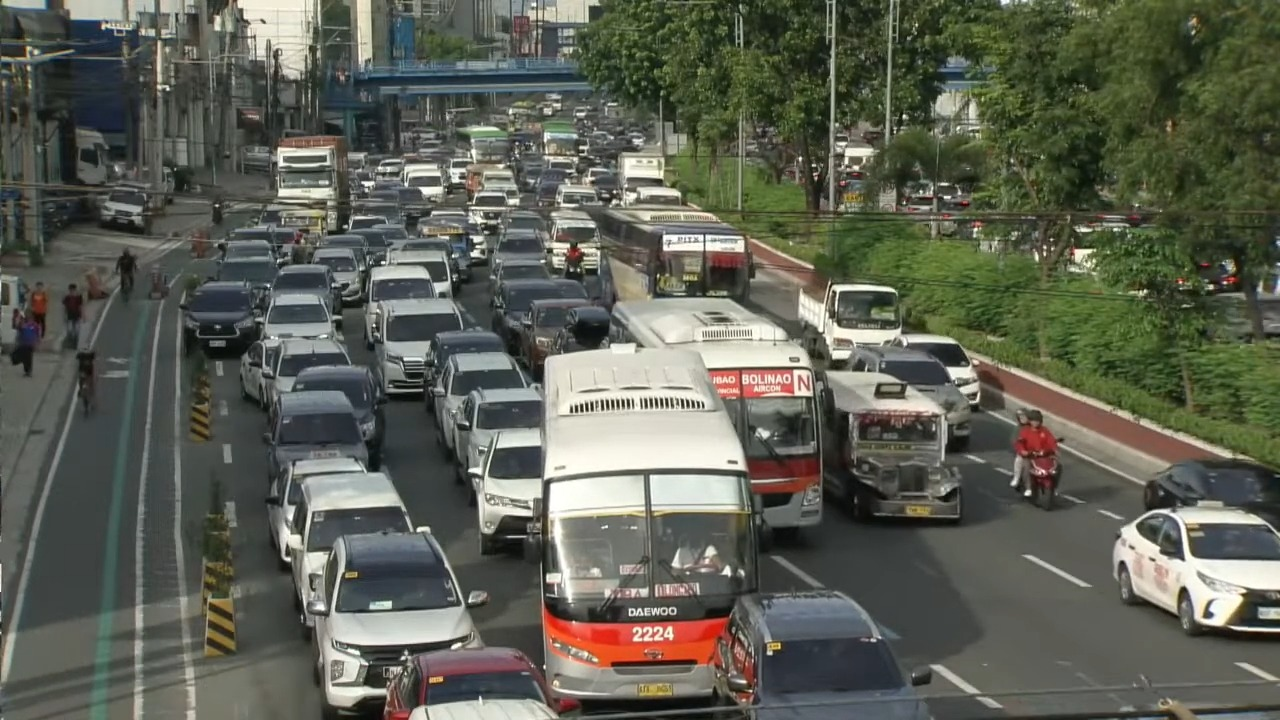bus: (524, 344, 770, 700), (610, 298, 822, 533), (596, 208, 753, 300), (456, 125, 510, 164), (542, 121, 578, 163)
car: (306, 532, 488, 714), (712, 589, 931, 719), (1112, 501, 1279, 635), (286, 472, 410, 627), (382, 647, 580, 719), (848, 346, 972, 451), (266, 457, 365, 568), (431, 352, 533, 457), (293, 365, 386, 469), (1143, 458, 1279, 527), (263, 391, 367, 481), (467, 428, 541, 554), (372, 300, 464, 394), (452, 387, 542, 482), (241, 339, 350, 410), (890, 333, 980, 409), (363, 265, 436, 349), (519, 299, 590, 378), (180, 281, 258, 352), (491, 280, 564, 354), (270, 264, 341, 327), (427, 328, 504, 386), (393, 237, 469, 295), (543, 306, 610, 364), (420, 222, 474, 282), (387, 248, 454, 296), (262, 294, 335, 338), (239, 339, 282, 411), (311, 246, 362, 306), (407, 699, 559, 719), (225, 224, 300, 261), (214, 257, 278, 296), (99, 187, 152, 234), (321, 233, 369, 279), (490, 258, 550, 291), (347, 224, 391, 267), (493, 228, 546, 262), (469, 190, 507, 231), (219, 239, 276, 261), (503, 210, 547, 238), (397, 187, 430, 222), (554, 184, 600, 208), (534, 171, 564, 206), (593, 173, 619, 204), (552, 277, 588, 298), (347, 214, 390, 231), (372, 223, 409, 242), (431, 207, 467, 221)
motorcycle: (1020, 452, 1061, 510), (563, 259, 584, 282), (211, 201, 223, 224)
truck: (820, 371, 961, 523), (797, 273, 902, 368), (274, 135, 350, 232), (618, 152, 665, 205)
